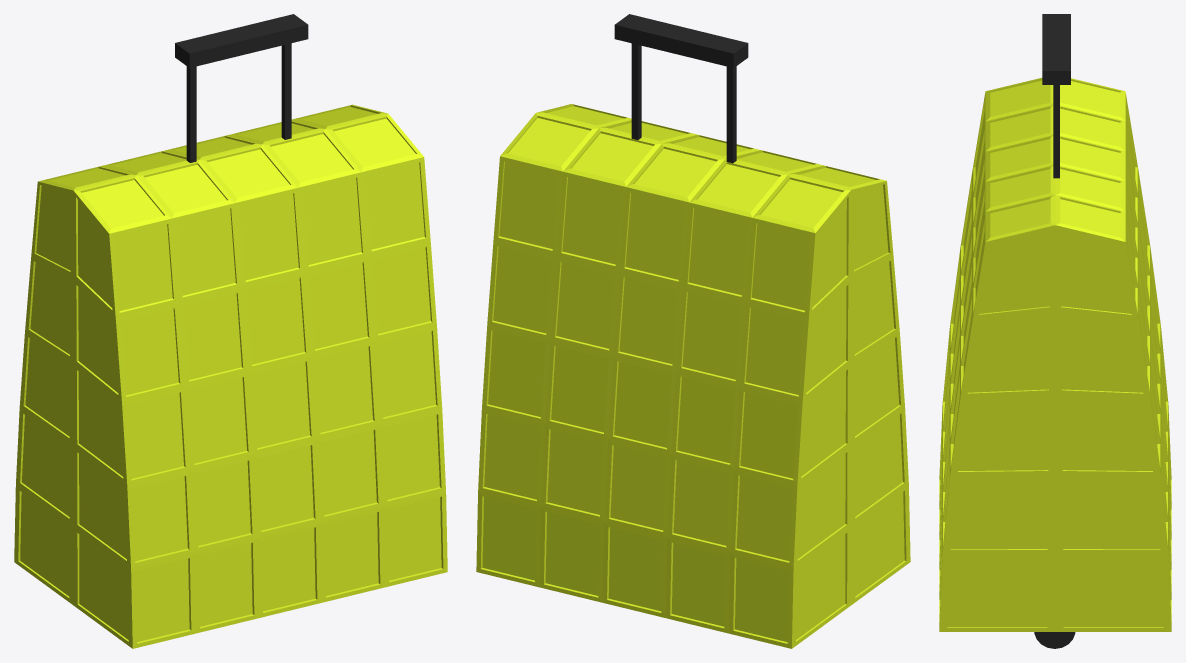
The model's file is suitcase.gltf.
The picture shows the model from 3 angles, left to right: view 1: azimuth 30°, elevation 25°; view 2: azimuth 150°, elevation 25°; view 3: azimuth 270°, elevation 25°; orthographic projection. The views are drawn at different scales.
Visible parts, largest first — view 1: node-0; view 2: node-0; view 3: node-0.
Boxes of the visible parts, x1,y1,x2,y2 form: node-0: (14,14,447,648); node-0: (476,14,910,648); node-0: (939,14,1171,648).
Bounding box in the file's own units: 279497 × 482925 × 182202.
